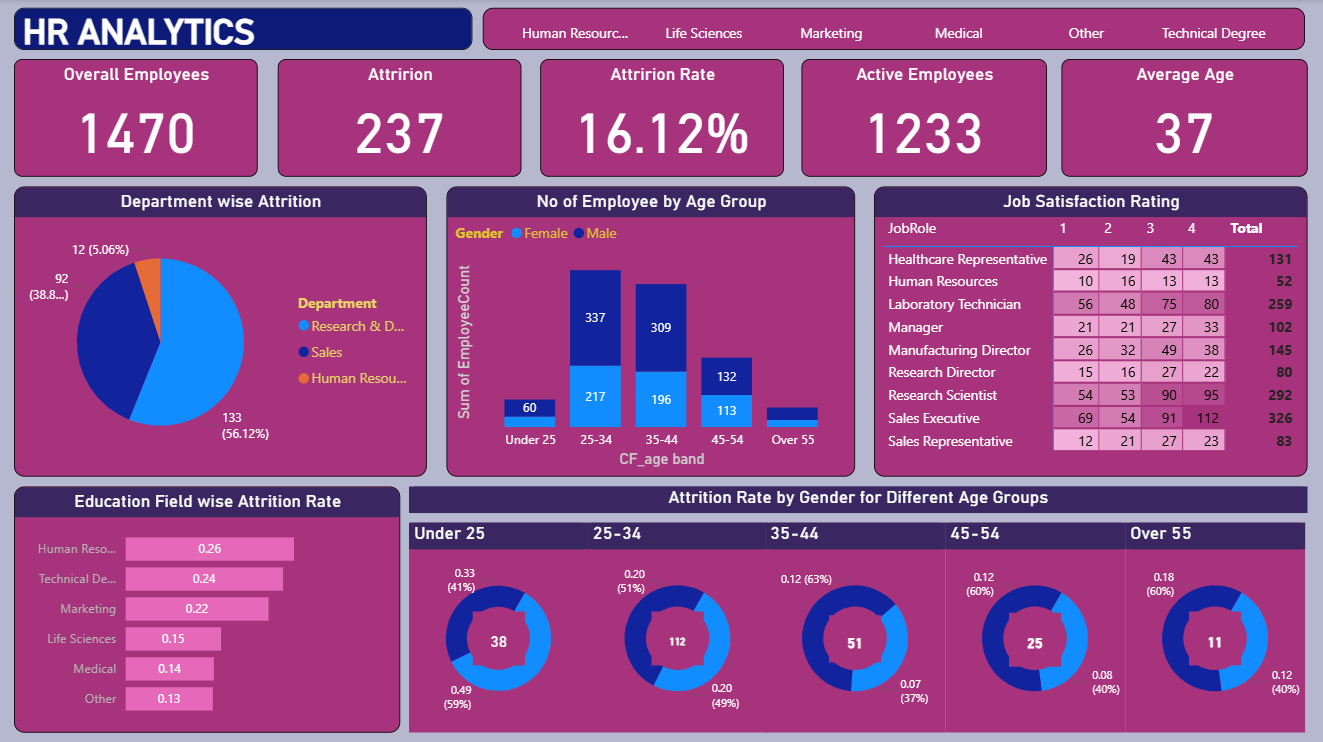

What the dashboard file says about the page in this screenshot:
{"tool":"powerbi","page":{"name":"Page 1","canvas":[1280,720],"ordinal":0},"visuals":[{"type":"cardVisual","title":"Overall Employees","fields":{"Data":["Sum(WA_Fn-UseC_-HR-Employee-Attrition.EmployeeCount)"]},"box":[14.5,57.9,235.3,113.4],"z":0},{"type":"cardVisual","title":"Attririon","fields":{"Data":["Sum(WA_Fn-UseC_-HR-Employee-Attrition.Attrition Count)"]},"box":[269,57.9,235.3,113.4],"z":1000},{"type":"cardVisual","title":"Attririon Rate","fields":{"Data":["WA_Fn-UseC_-HR-Employee-Attrition.Attrition rate"]},"box":[522.4,57.9,235.3,113.4],"z":2000},{"type":"cardVisual","title":"Active Employees","fields":{"Data":["WA_Fn-UseC_-HR-Employee-Attrition.Active Employees"]},"box":[774.5,57.9,236.5,113.4],"z":3000},{"type":"cardVisual","title":"Average Age","fields":{"Data":["Avg(WA_Fn-UseC_-HR-Employee-Attrition.Age)"]},"box":[1025.5,57.9,237.7,113.4],"z":4000},{"type":"pieChart","title":"Department wise Attrition","fields":{"Category":["WA_Fn-UseC_-HR-Employee-Attrition.Department"],"Y":["Sum(WA_Fn-UseC_-HR-Employee-Attrition.Attrition Count)"]},"box":[14.5,181,398.1,279.9],"z":5000},{"type":"columnChart","title":"No of Employee by Age Group","fields":{"Category":["WA_Fn-UseC_-HR-Employee-Attrition.CF_age band"],"Y":["Sum(WA_Fn-UseC_-HR-Employee-Attrition.EmployeeCount)"],"Series":["WA_Fn-UseC_-HR-Employee-Attrition.Gender"]},"box":[431.9,181,394.5,279.9],"z":6000},{"type":"pivotTable","title":"Job Satisfaction Rating","fields":{"Rows":["WA_Fn-UseC_-HR-Employee-Attrition.JobRole"],"Columns":["WA_Fn-UseC_-HR-Employee-Attrition.JobSatisfaction"],"Values":["Sum(WA_Fn-UseC_-HR-Employee-Attrition.EmployeeCount)"]},"box":[844.5,181,418.6,279.9],"z":7000},{"type":"barChart","title":"Education Field wise Attrition Rate","fields":{"Category":["WA_Fn-UseC_-HR-Employee-Attrition.EducationField"],"Y":["WA_Fn-UseC_-HR-Employee-Attrition.Attrition rate"]},"box":[14.5,470.5,372.8,237.7],"z":8000},{"type":"donutChart","title":"Under 25","fields":{"Category":["WA_Fn-UseC_-HR-Employee-Attrition.Gender"],"Y":["WA_Fn-UseC_-HR-Employee-Attrition.Attrition rate"],"Series":["WA_Fn-UseC_-HR-Employee-Attrition.CF_age band"]},"box":[395.7,505.5,173,202.7],"z":9000},{"type":"textbox","title":"Attrition Rate by Gender for Different Age Groups","box":[395.7,470.5,867.4,25.3],"z":10000},{"type":"donutChart","title":"25-34","fields":{"Category":["WA_Fn-UseC_-HR-Employee-Attrition.Gender"],"Y":["WA_Fn-UseC_-HR-Employee-Attrition.Attrition rate"],"Series":["WA_Fn-UseC_-HR-Employee-Attrition.CF_age band"]},"box":[568.2,505.5,173.7,202.7],"z":11000},{"type":"donutChart","title":"35-44","fields":{"Category":["WA_Fn-UseC_-HR-Employee-Attrition.Gender"],"Y":["WA_Fn-UseC_-HR-Employee-Attrition.Attrition rate"],"Series":["WA_Fn-UseC_-HR-Employee-Attrition.CF_age band"]},"box":[739.5,505.5,173.7,202.7],"z":12000},{"type":"donutChart","title":"45-54","fields":{"Category":["WA_Fn-UseC_-HR-Employee-Attrition.Gender"],"Y":["WA_Fn-UseC_-HR-Employee-Attrition.Attrition rate"],"Series":["WA_Fn-UseC_-HR-Employee-Attrition.CF_age band"]},"box":[913.3,505.5,173.7,202.7],"z":13000},{"type":"donutChart","title":"Over 55","fields":{"Category":["WA_Fn-UseC_-HR-Employee-Attrition.Gender"],"Y":["WA_Fn-UseC_-HR-Employee-Attrition.Attrition rate"],"Series":["WA_Fn-UseC_-HR-Employee-Attrition.CF_age band"]},"box":[1087,505.5,173.7,202.7],"z":14000},{"type":"cardVisual","fields":{"Data":["Sum(WA_Fn-UseC_-HR-Employee-Attrition.Attrition Count)"]},"box":[457.2,591.2,50.7,51.9],"z":15000},{"type":"cardVisual","fields":{"Data":["Sum(WA_Fn-UseC_-HR-Employee-Attrition.Attrition Count)"]},"box":[629.8,591.2,50.7,51.9],"z":16000},{"type":"cardVisual","fields":{"Data":["Sum(WA_Fn-UseC_-HR-Employee-Attrition.Attrition Count)"]},"box":[801.1,594.8,50.7,45.8],"z":17000},{"type":"cardVisual","fields":{"Data":["Sum(WA_Fn-UseC_-HR-Employee-Attrition.Attrition Count)"]},"box":[974.8,592.4,50.7,51.9],"z":18000},{"type":"cardVisual","fields":{"Data":["Sum(WA_Fn-UseC_-HR-Employee-Attrition.Attrition Count)"]},"box":[1148.5,591.2,50.7,51.9],"z":19000},{"type":"textbox","title":"HR ANALYTICS DASHBOARD","box":[14.5,8.4,442.8,41],"z":20000},{"type":"slicer","fields":{"Values":["WA_Fn-UseC_-HR-Employee-Attrition.EducationField"]},"box":[466.9,8.4,793.8,41],"z":21000}]}

Visuals, with their boxes in screenshot pixels (x1, y1, x2, y2), scaled from the page's 1280x720 canvas onto the 1323x742 screenshot:
"Overall Employees" cardVisual: <region>15, 60, 258, 177</region>
"Attririon" cardVisual: <region>278, 60, 521, 177</region>
"Attririon Rate" cardVisual: <region>540, 60, 783, 177</region>
"Active Employees" cardVisual: <region>801, 60, 1045, 177</region>
"Average Age" cardVisual: <region>1060, 60, 1306, 177</region>
"Department wise Attrition" pieChart: <region>15, 187, 426, 475</region>
"No of Employee by Age Group" columnChart: <region>446, 187, 854, 475</region>
"Job Satisfaction Rating" pivotTable: <region>873, 187, 1306, 475</region>
"Education Field wise Attrition Rate" barChart: <region>15, 485, 400, 730</region>
"Under 25" donutChart: <region>409, 521, 588, 730</region>
"Attrition Rate by Gender for Different Age Groups" textbox: <region>409, 485, 1306, 511</region>
"25-34" donutChart: <region>587, 521, 767, 730</region>
"35-44" donutChart: <region>764, 521, 944, 730</region>
"45-54" donutChart: <region>944, 521, 1124, 730</region>
"Over 55" donutChart: <region>1124, 521, 1303, 730</region>
cardVisual - Sum(WA_Fn-UseC_-HR-Employee-Attrition.Attrition Count): <region>473, 609, 525, 663</region>
cardVisual - Sum(WA_Fn-UseC_-HR-Employee-Attrition.Attrition Count): <region>651, 609, 703, 663</region>
cardVisual - Sum(WA_Fn-UseC_-HR-Employee-Attrition.Attrition Count): <region>828, 613, 880, 660</region>
cardVisual - Sum(WA_Fn-UseC_-HR-Employee-Attrition.Attrition Count): <region>1008, 611, 1060, 664</region>
cardVisual - Sum(WA_Fn-UseC_-HR-Employee-Attrition.Attrition Count): <region>1187, 609, 1239, 663</region>
"HR ANALYTICS DASHBOARD" textbox: <region>15, 9, 473, 51</region>
slicer - WA_Fn-UseC_-HR-Employee-Attrition.EducationField: <region>483, 9, 1303, 51</region>
